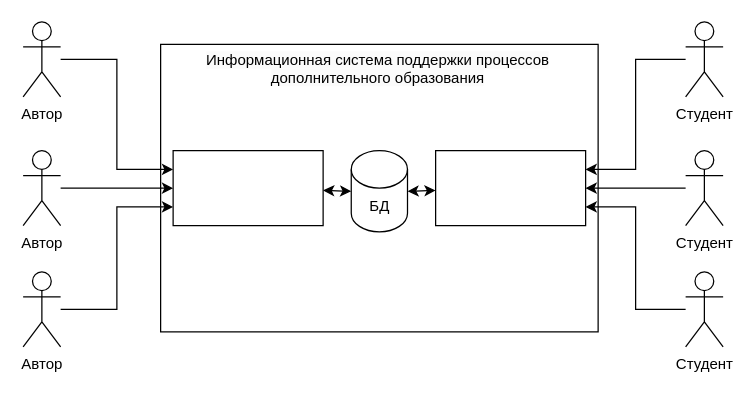
Image size: 755x395. Some labels were removed from this diagram. Here are the shapes that lost their labels. From the top down, the centre of each, then its label:
At (247,187): "Модуль администратора".
At (510,187): "Клиентский портал".
